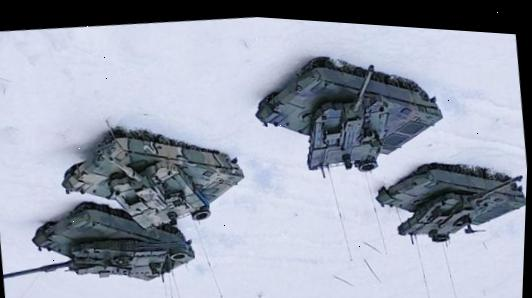tank: (249, 41, 451, 189), (53, 108, 259, 245), (0, 188, 202, 298), (372, 146, 528, 257)
